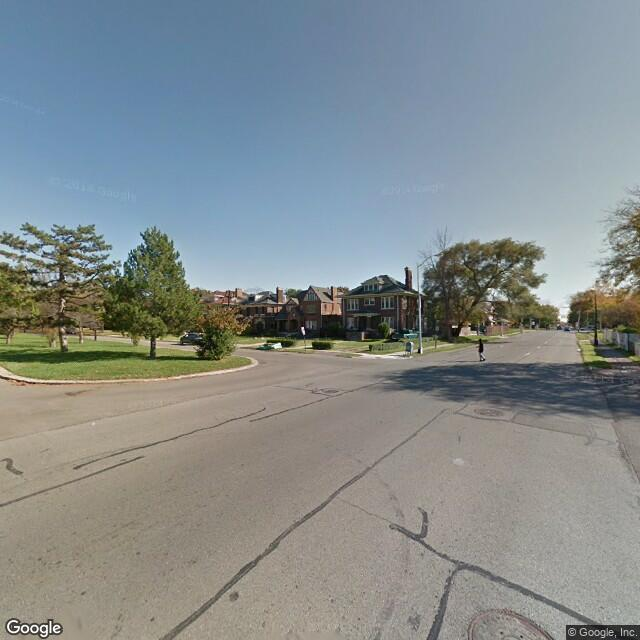litter: (8, 376, 19, 382), (576, 346, 581, 351)
